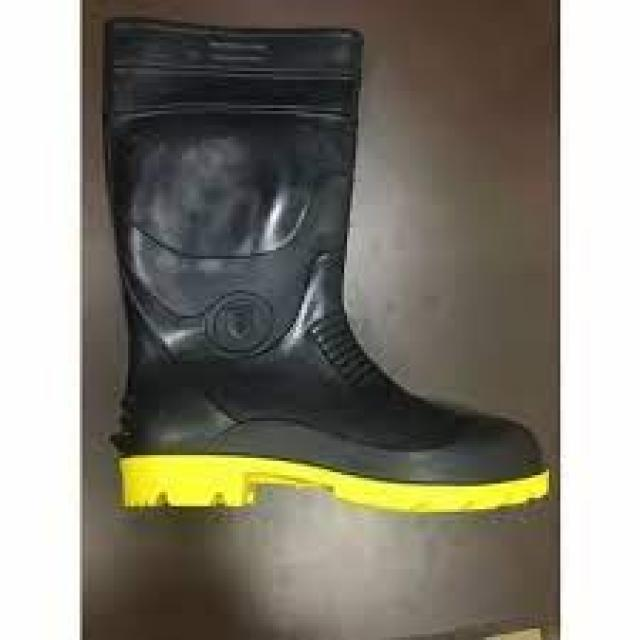shoes: (108, 21, 552, 514)
